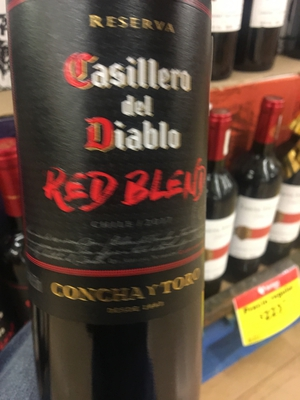casillero del diablo red blend: (7, 2, 211, 400)
